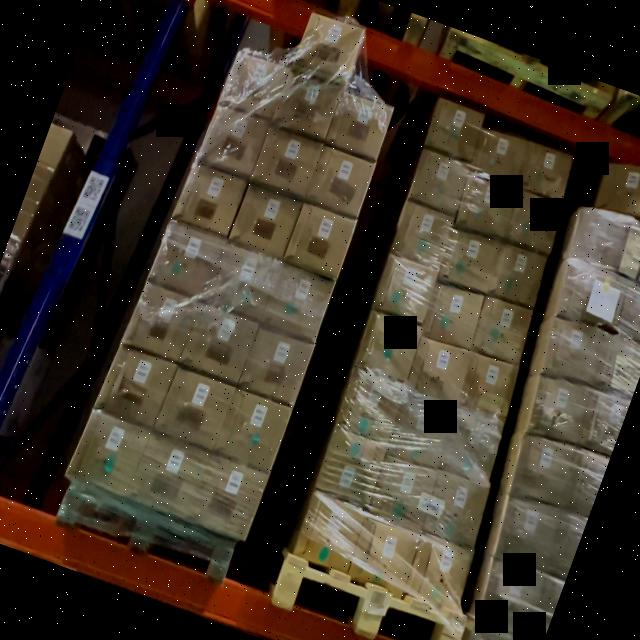box: (68, 409, 150, 496), (186, 454, 268, 540), (128, 431, 208, 515), (154, 367, 233, 451), (97, 343, 176, 427), (213, 390, 292, 472), (124, 281, 200, 363), (148, 220, 225, 300), (238, 327, 313, 407), (180, 306, 256, 382), (418, 469, 491, 548), (261, 264, 333, 342), (346, 516, 418, 594), (495, 496, 567, 574), (207, 242, 279, 319), (508, 433, 579, 511), (284, 202, 356, 278), (434, 409, 504, 487), (250, 125, 324, 198), (295, 495, 366, 571), (316, 430, 386, 507), (230, 183, 302, 256), (174, 162, 246, 235), (198, 105, 270, 178), (337, 369, 408, 442), (558, 262, 628, 334), (541, 318, 611, 390), (404, 534, 472, 608), (354, 312, 423, 384), (404, 336, 470, 411), (272, 71, 342, 141), (305, 146, 373, 218), (220, 51, 290, 120), (368, 456, 435, 528), (325, 90, 393, 160), (527, 376, 593, 448), (294, 13, 362, 82), (388, 398, 454, 468), (373, 254, 438, 324), (438, 226, 501, 296), (408, 150, 472, 216), (470, 295, 532, 363), (456, 353, 518, 420), (571, 207, 636, 270), (484, 562, 544, 630), (424, 98, 486, 162), (422, 282, 482, 348), (485, 244, 545, 310), (392, 204, 454, 267), (456, 176, 516, 240), (468, 125, 528, 187), (502, 192, 560, 255), (516, 141, 572, 200), (597, 163, 640, 216)
